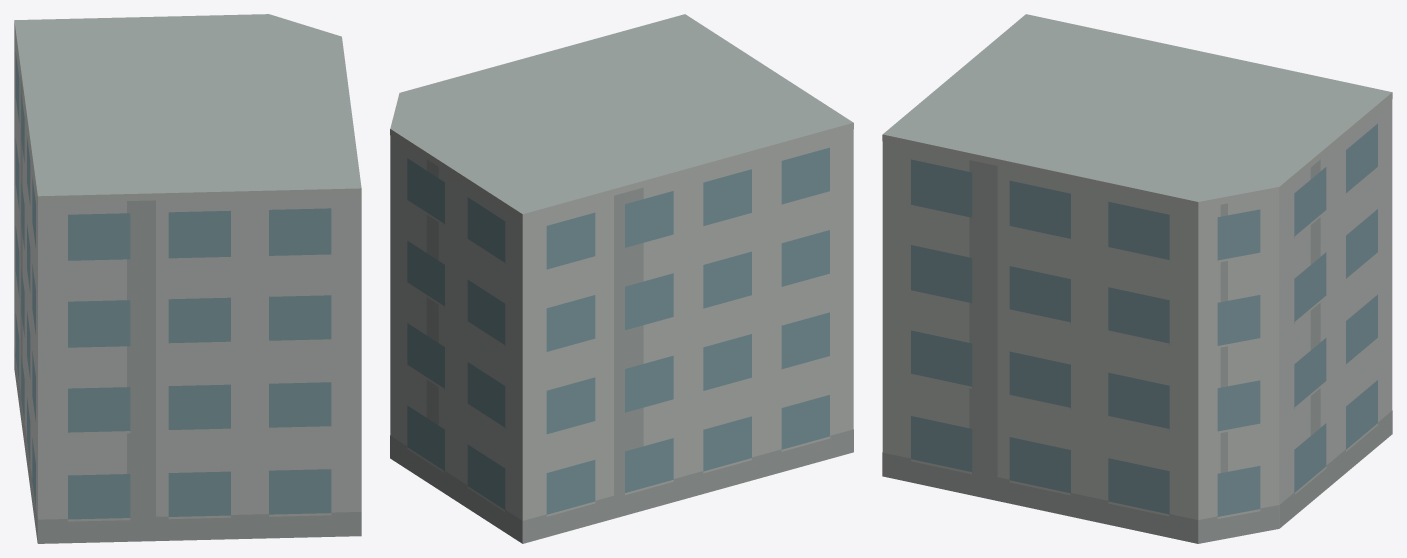
Rendered from residential-d36c7464-b8da-4a1e-b457-f7151db13638.glb.
3 renders of one model, left to right at view 1: azimuth 30°, elevation 25°; view 2: azimuth 150°, elevation 25°; view 3: azimuth 270°, elevation 25°, orthographic. The views are drawn at different scales.
Visible parts, largest first — view 1: residential-d36c7464-b8da-4a1e-b457-f7151db13638.tmp; view 2: residential-d36c7464-b8da-4a1e-b457-f7151db13638.tmp; view 3: residential-d36c7464-b8da-4a1e-b457-f7151db13638.tmp.
Boxes of the visible parts, x1,y1,x2,y2 form: residential-d36c7464-b8da-4a1e-b457-f7151db13638.tmp: (14, 14, 361, 543); residential-d36c7464-b8da-4a1e-b457-f7151db13638.tmp: (390, 14, 853, 543); residential-d36c7464-b8da-4a1e-b457-f7151db13638.tmp: (882, 14, 1392, 543).
Size of the model in its own units: 14.16 by 12 by 16.23.
